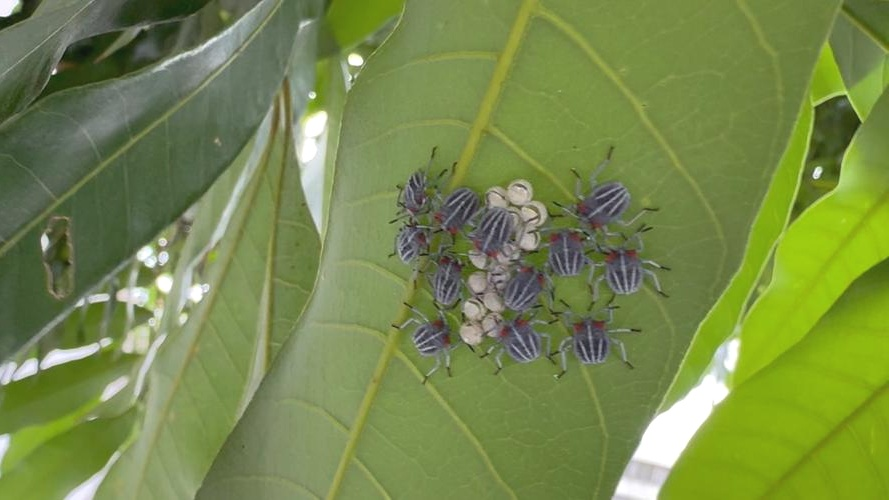Stink_Bug: (441, 147, 543, 400), (430, 175, 543, 253), (558, 303, 636, 363), (386, 141, 455, 203), (595, 232, 667, 286), (556, 167, 632, 217), (382, 315, 453, 362), (474, 321, 543, 365), (537, 225, 588, 282), (481, 263, 537, 313), (413, 257, 461, 296), (384, 223, 432, 255)
